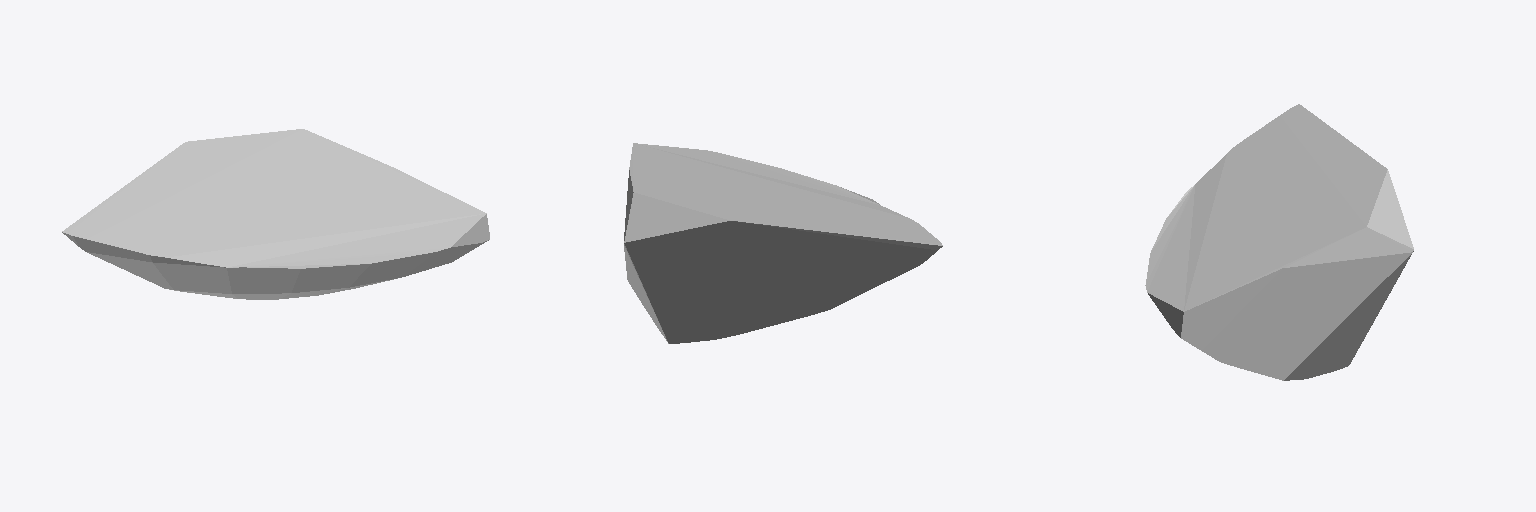
Rendered from Sphere_Cell_Fracture14.obj.
The picture shows the model from 3 angles: view 1: azimuth 30°, elevation 25°; view 2: azimuth 150°, elevation 25°; view 3: azimuth 270°, elevation 25°; orthographic projection.
Size of the model in its own units: 0.7854 by 0.32 by 0.4952.